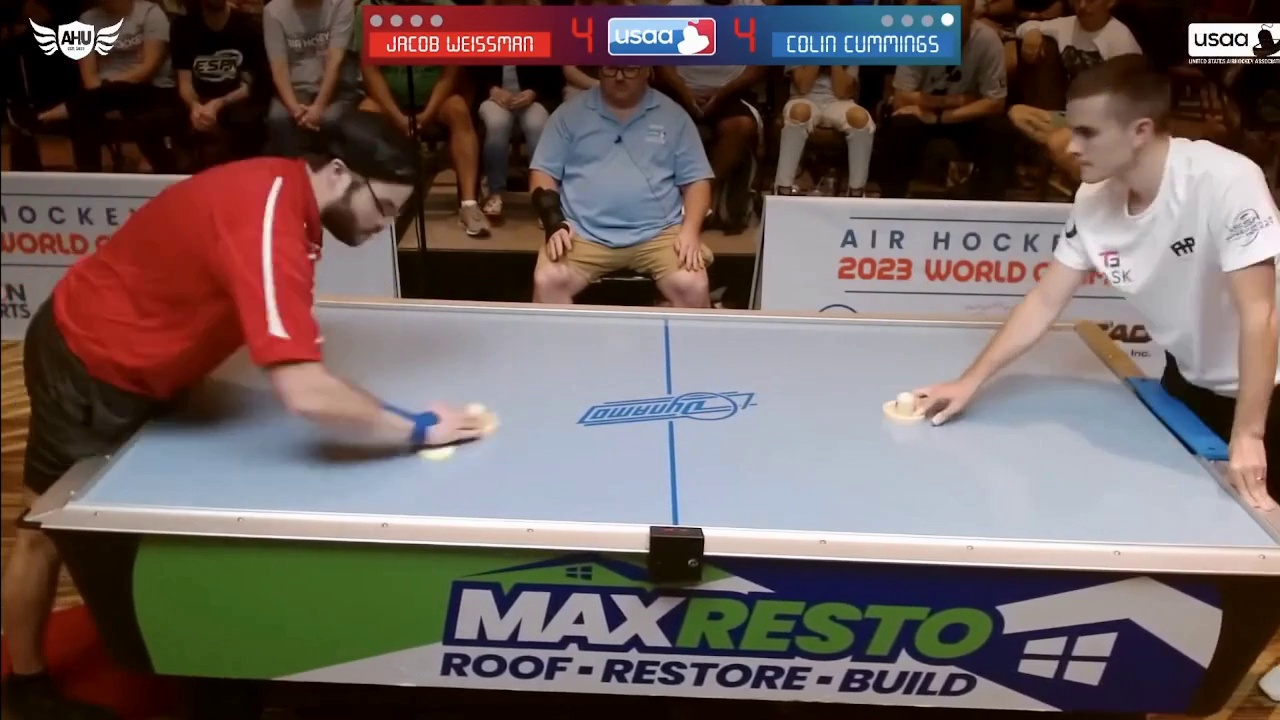player: (885, 395, 936, 430), (455, 404, 502, 435)
puck: (418, 443, 458, 459)
table: (106, 292, 1271, 554)
